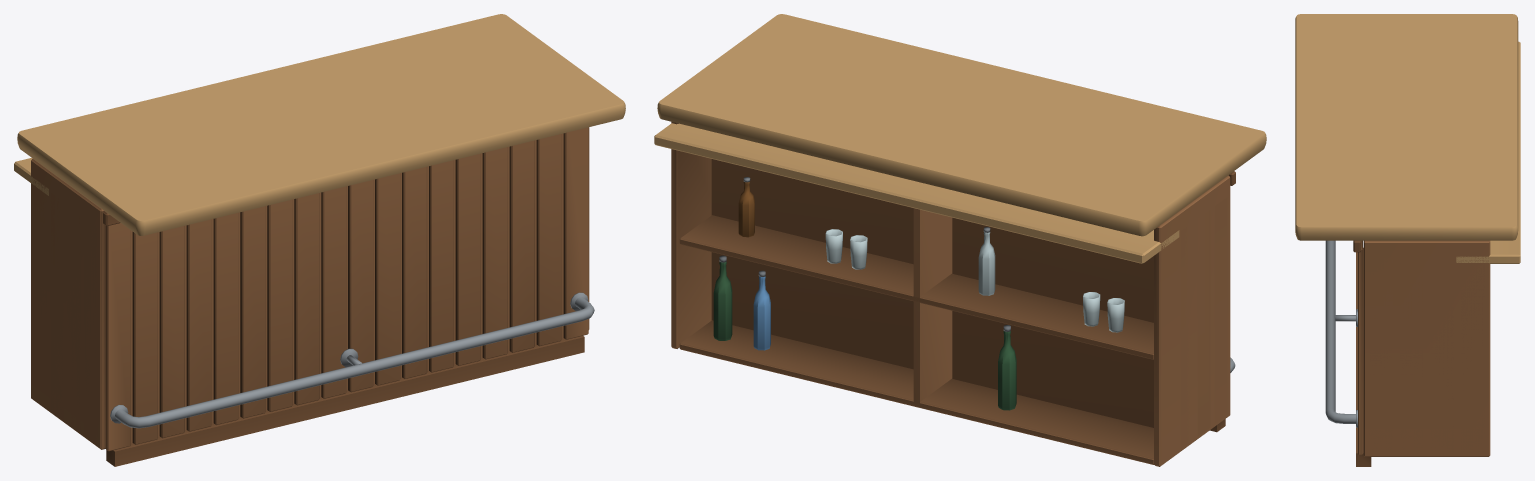
File: outdoorBar.glb
The picture shows the model from 3 angles, left to right: view 1: azimuth 30°, elevation 25°; view 2: azimuth 150°, elevation 25°; view 3: azimuth 270°, elevation 25°; orthographic projection. The views are drawn at different scales.
Parts seen in each view (by area): view 1: outdoorBar; view 2: outdoorBar; view 3: outdoorBar.
Part boxes in pixels (x1=…): outdoorBar: x1=14, y1=14, x2=625, y2=466; outdoorBar: x1=654, y1=14, x2=1266, y2=466; outdoorBar: x1=1295, y1=14, x2=1520, y2=466.
Size of the model in its own units: 2 by 1.06 by 0.89.
